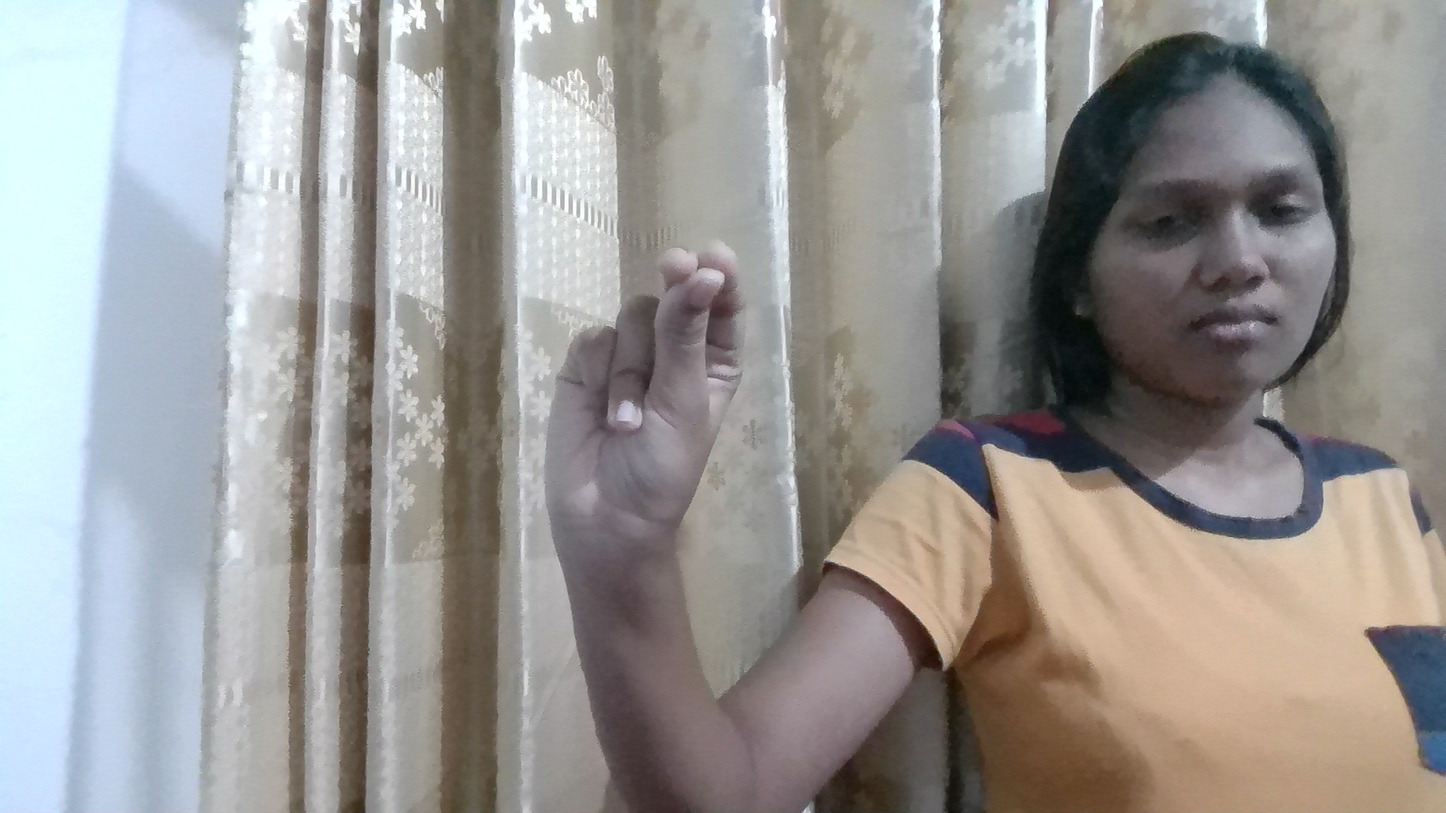No: (529, 196, 755, 684)
